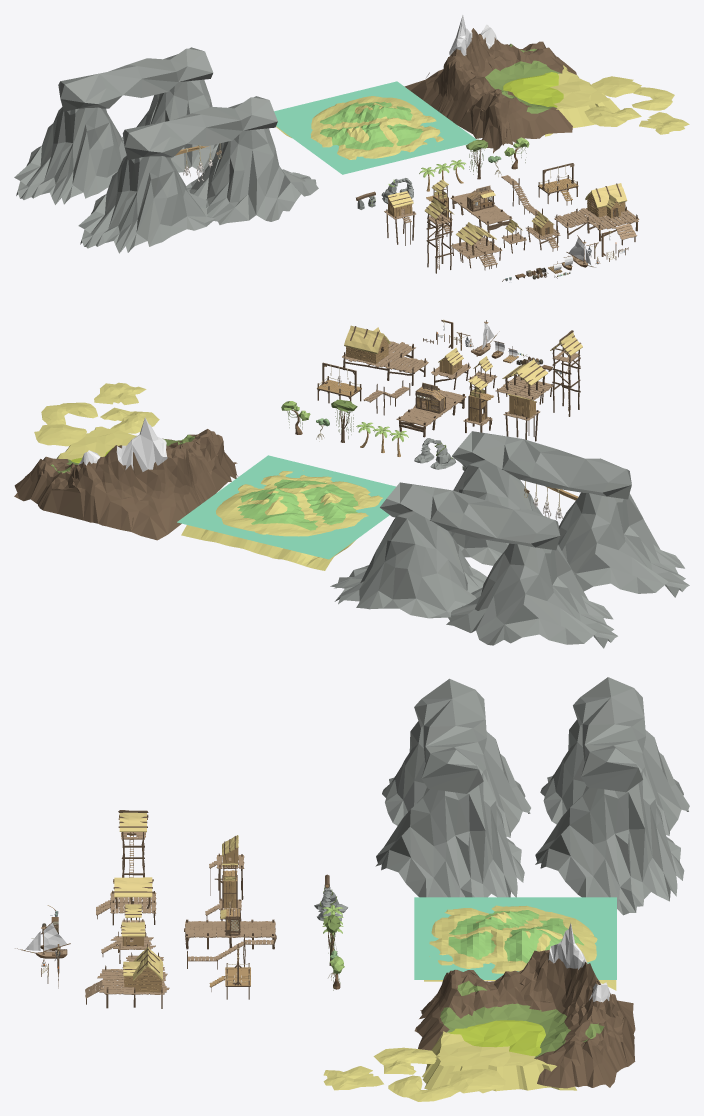
File: Low Poly Village.fbx
3 views of the same model, one above another, from view 1: azimuth 30°, elevation 25°; view 2: azimuth 150°, elevation 25°; view 3: azimuth 270°, elevation 25° (orthographic). The views are drawn at different scales.
Parts seen in each view (by area): view 1: Big_Rock_1, Big_Rock_2, Land_1, Land_6, Water, Platform_4, Hut_2, Tower, Platform_7, Land_4, Gallows, Land_2 (+6 smaller); view 2: Big_Rock_2, Big_Rock_1, Land_1, Land_6, Water, Platform_4, Hut_2, Tower, Platform_7, Land_2, Land_4, Land_5 (+9 smaller); view 3: Big_Rock_2, Land_1, Big_Rock_1, Land_6, Water, Platform_7, Hut_2, Land_4, Tower, Land_2, Platform_4, Land_5 (+6 smaller).
Part boxes in pixels (x1=…): Big_Rock_1: x1=78, y1=96, x2=318, y2=253; Big_Rock_2: x1=14, y1=47, x2=218, y2=204; Land_1: x1=404, y1=15, x2=619, y2=153; Land_6: x1=276, y1=96, x2=443, y2=159; Water: x1=274, y1=81, x2=476, y2=174; Platform_4: x1=554, y1=206, x2=639, y2=241; Hut_2: x1=585, y1=183, x2=627, y2=218; Tower: x1=424, y1=196, x2=454, y2=273; Platform_7: x1=450, y1=193, x2=512, y2=233; Land_4: x1=584, y1=106, x2=641, y2=126; Gallows: x1=538, y1=163, x2=578, y2=205; Land_2: x1=591, y1=76, x2=641, y2=97; Big_Rock_2: x1=330, y1=482, x2=617, y2=648; Big_Rock_1: x1=448, y1=431, x2=689, y2=597; Land_1: x1=14, y1=417, x2=238, y2=540; Land_6: x1=181, y1=470, x2=382, y2=570; Water: x1=177, y1=455, x2=395, y2=559; Platform_4: x1=342, y1=341, x2=428, y2=385; Hut_2: x1=344, y1=325, x2=390, y2=363; Tower: x1=550, y1=330, x2=582, y2=416; Platform_7: x1=396, y1=388, x2=466, y2=437; Land_2: x1=34, y1=424, x2=86, y2=446; Land_4: x1=100, y1=407, x2=159, y2=433; Land_5: x1=41, y1=402, x2=97, y2=424; Big_Rock_2: x1=535, y1=677, x2=689, y2=915; Land_1: x1=414, y1=923, x2=635, y2=1091; Big_Rock_1: x1=375, y1=678, x2=530, y2=897; Land_6: x1=424, y1=905, x2=616, y2=990; Water: x1=414, y1=897, x2=616, y2=979; Platform_7: x1=184, y1=919, x2=276, y2=949; Hut_2: x1=122, y1=947, x2=163, y2=992; Land_4: x1=373, y1=1047, x2=436, y2=1074; Tower: x1=118, y1=810, x2=148, y2=877; Land_2: x1=448, y1=1069, x2=505, y2=1093; Platform_4: x1=97, y1=952, x2=169, y2=1008; Land_5: x1=388, y1=1075, x2=459, y2=1101.
Bounding box in the file's own units: 11088 × 1953 × 9039.
Materials: 1 (1 with a texture image).
